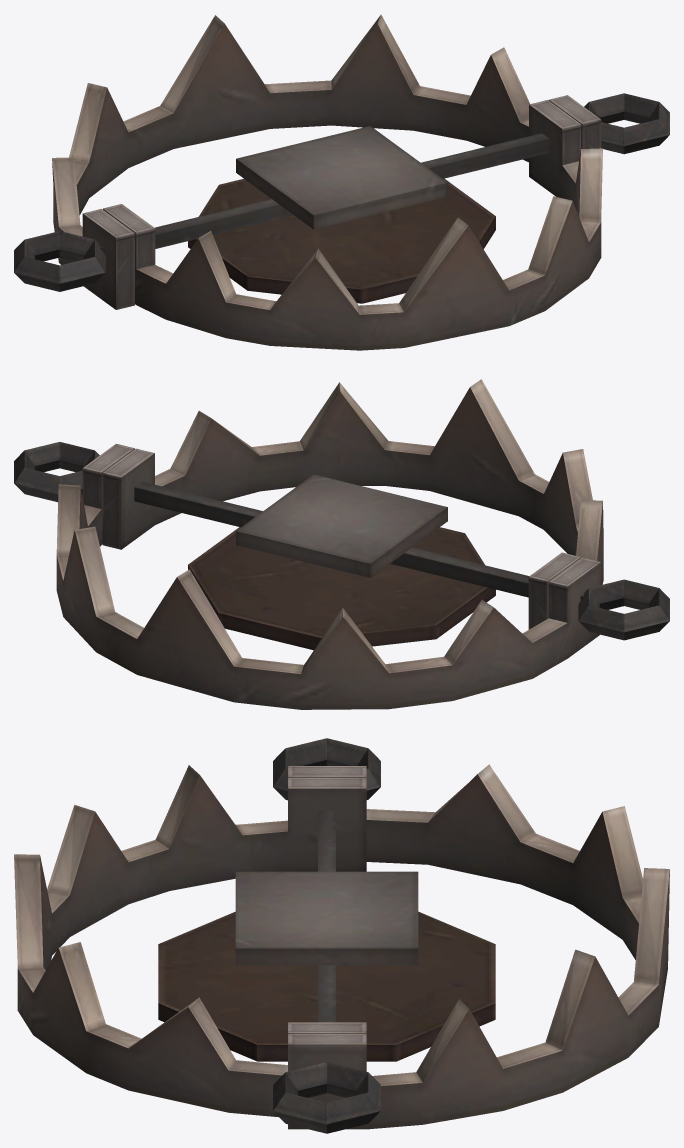
File: F24_TRAP_02M.obj
The picture shows the model from 3 angles, top to bottom: view 1: azimuth 30°, elevation 25°; view 2: azimuth 150°, elevation 25°; view 3: azimuth 270°, elevation 25°; orthographic projection. The views are drawn at different scales.
Visible parts, largest first — view 1: F24_TRAP_02M; view 2: F24_TRAP_02M; view 3: F24_TRAP_02M.
Part boxes in pixels (<box>): F24_TRAP_02M: <box>14,14,669,350</box>; F24_TRAP_02M: <box>14,379,669,709</box>; F24_TRAP_02M: <box>14,738,669,1133</box>.
Size of the model in its own units: 0.9763 by 0.1599 by 0.7189.
2 materials, 1 textured.
